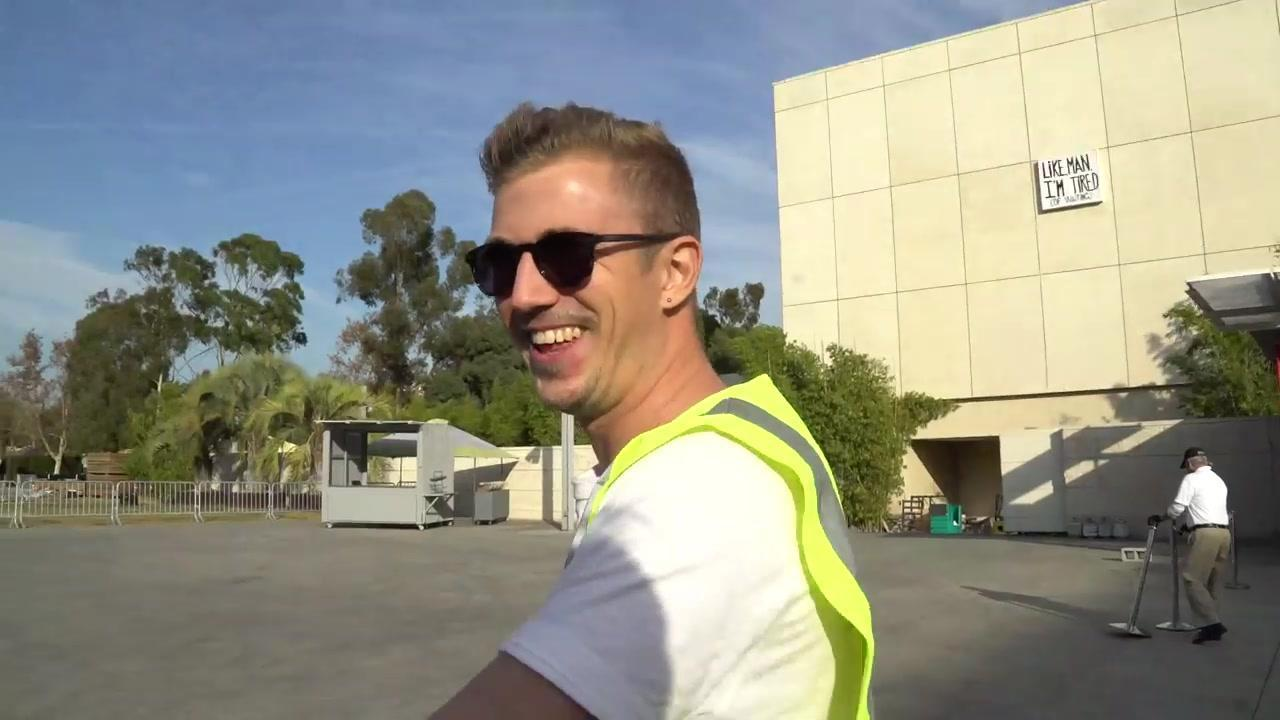vest: (589, 371, 877, 719)
